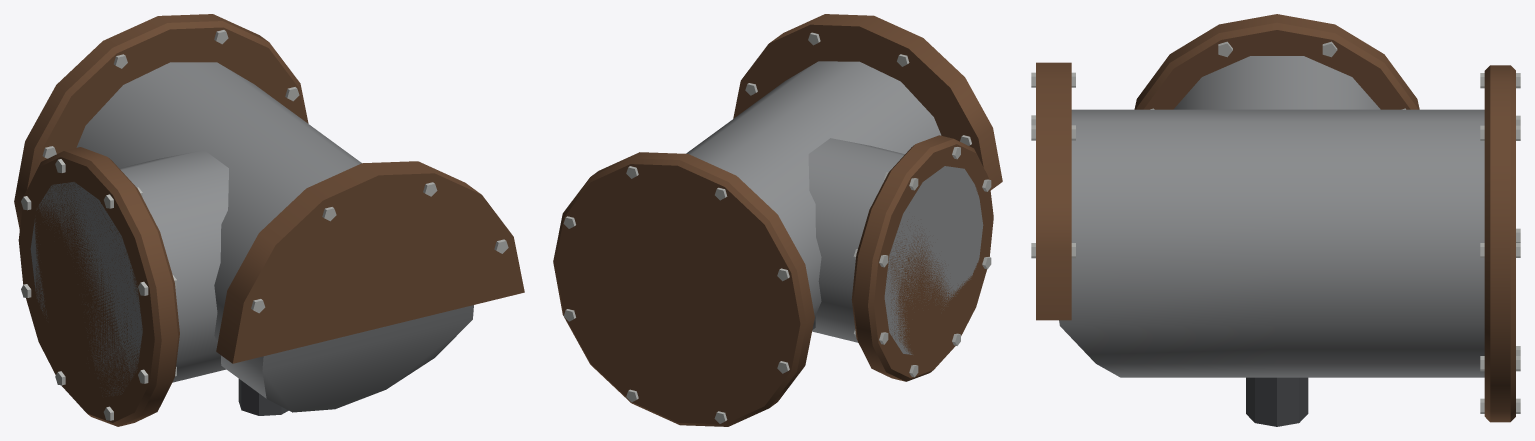
File: pipe-t-left.glb
3 renders of one model, left to right at view 1: azimuth 30°, elevation 25°; view 2: azimuth 150°, elevation 25°; view 3: azimuth 270°, elevation 25°, orthographic. The views are drawn at different scales.
Visible parts, largest first — view 1: body; view 2: body; view 3: body.
Part boxes in pixels (<box>): body: <box>14,14,524,426</box>; body: <box>553,14,1002,426</box>; body: <box>1031,14,1520,426</box>.
Size of the model in its own units: 0.916 by 0.826 by 1.1.
